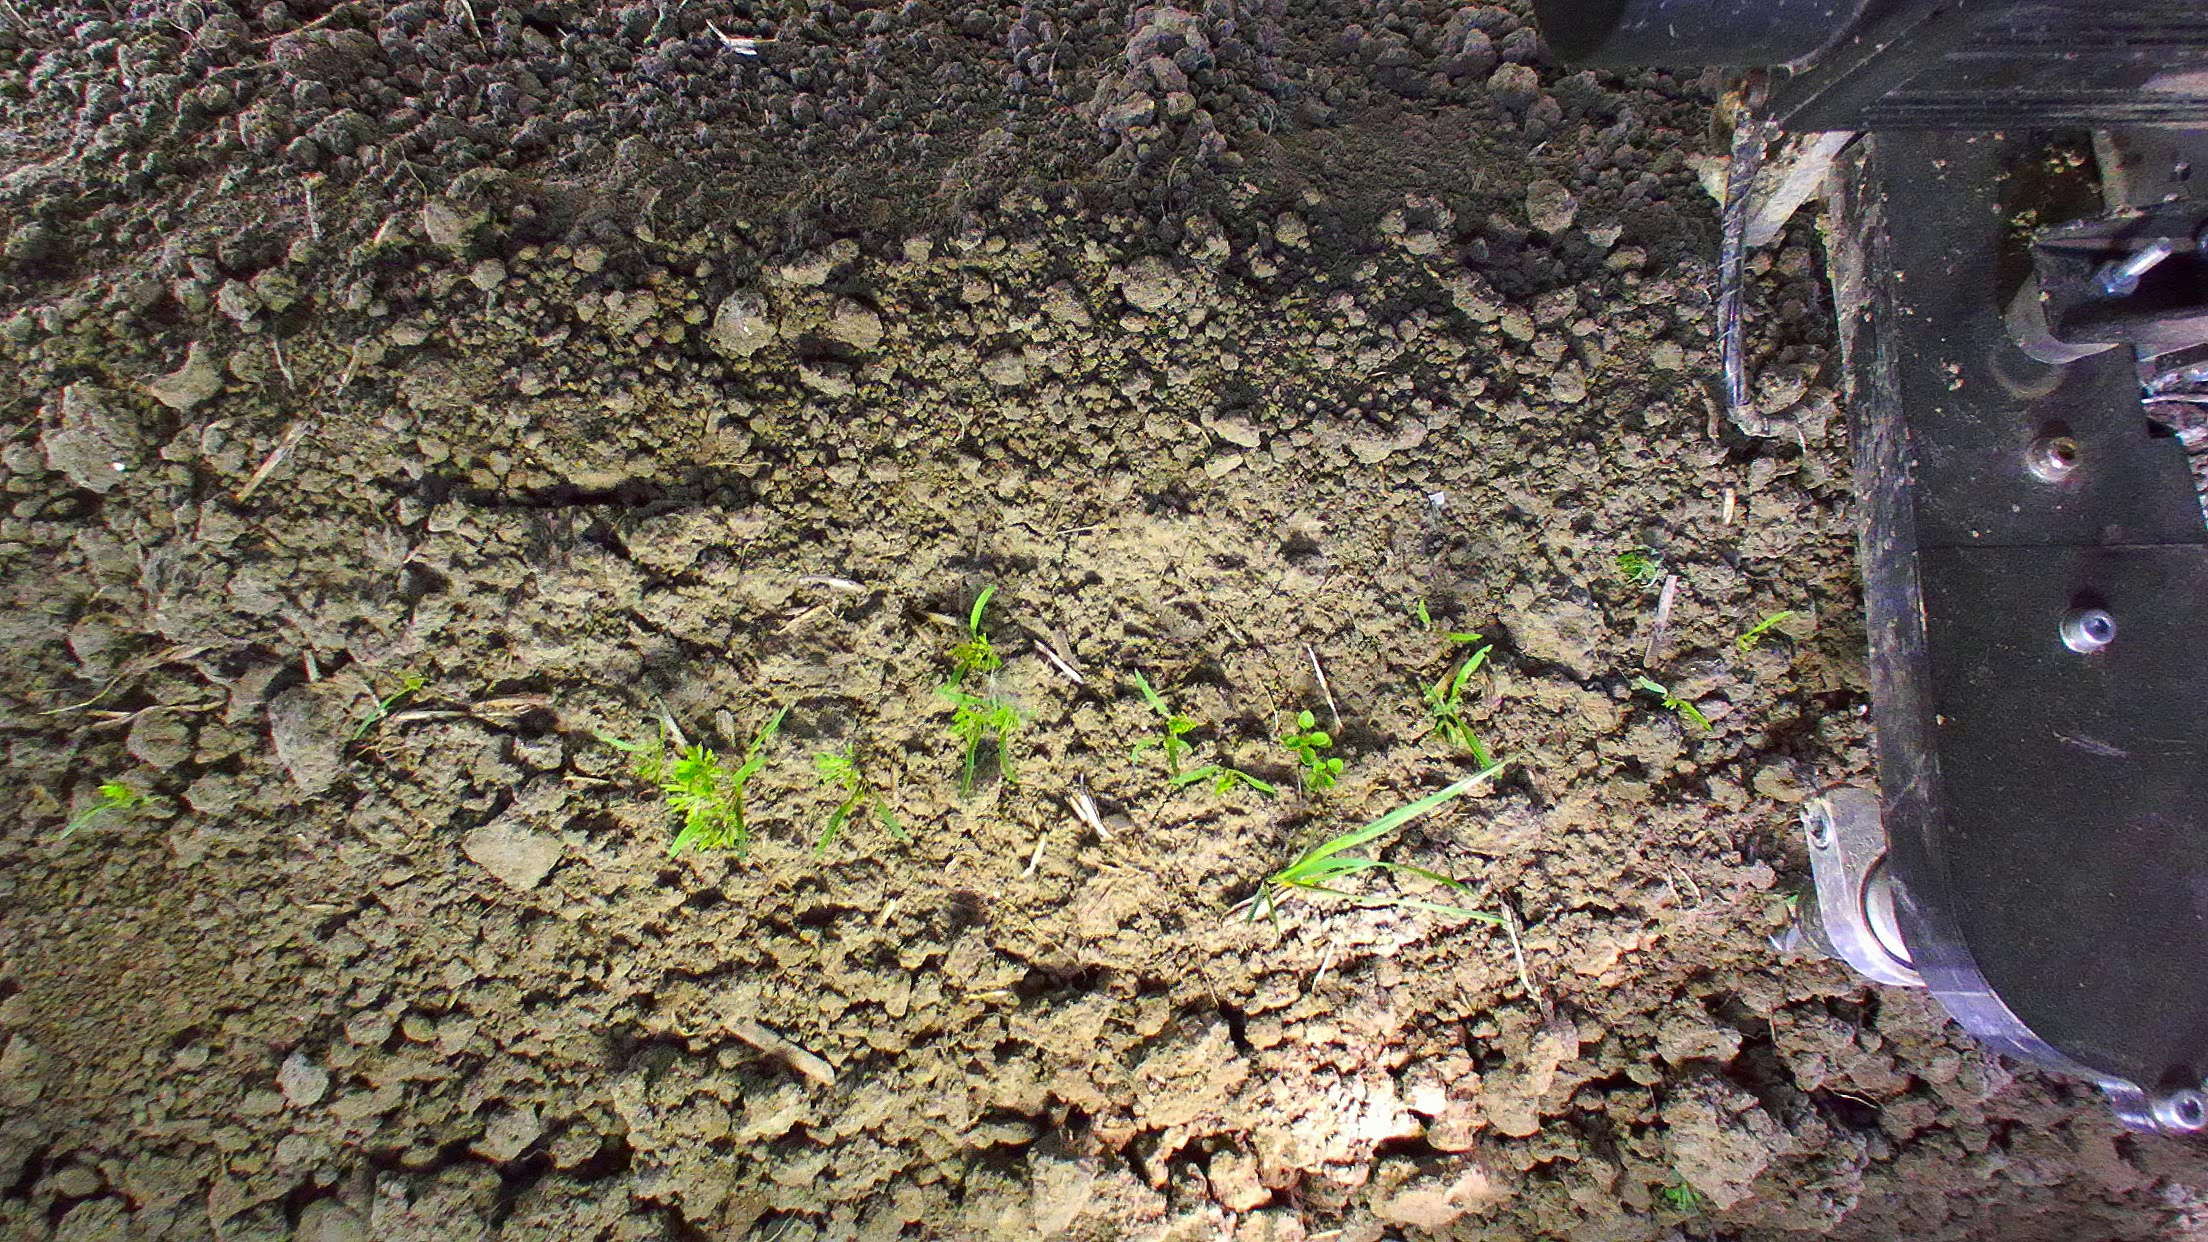Crop: (602, 707, 789, 863), (931, 579, 1025, 798), (1127, 667, 1278, 801), (1415, 629, 1504, 783), (59, 773, 162, 857), (341, 670, 431, 749), (811, 742, 867, 858), (1633, 673, 1717, 735), (1736, 608, 1794, 654)
Weed: (1244, 819, 1372, 924), (1275, 707, 1347, 795), (1607, 543, 1670, 587), (1659, 1165, 1703, 1213)
